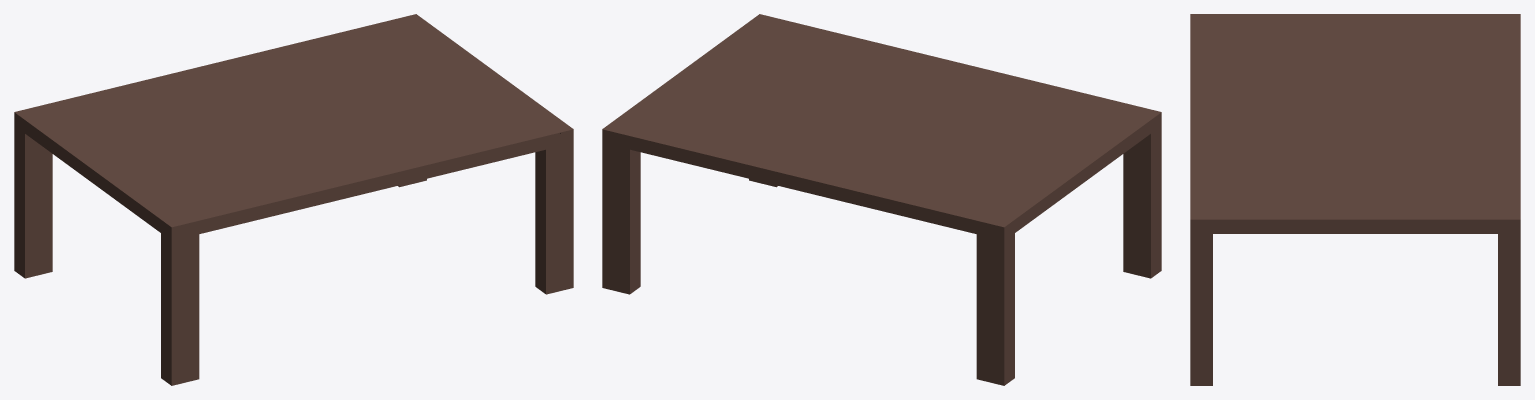
Rendered from table.fbx.
The picture shows the model from 3 angles, left to right: view 1: azimuth 30°, elevation 25°; view 2: azimuth 150°, elevation 25°; view 3: azimuth 270°, elevation 25°; orthographic projection. The views are drawn at different scales.
Visible parts, largest first — view 1: table; view 2: table; view 3: table.
Boxes of the visible parts, x1,y1,x2,y2 form: table: (14, 14, 573, 385); table: (602, 14, 1161, 385); table: (1190, 14, 1520, 385).
Bounding box in the file's own units: 869 × 328 × 590.
1 material, 1 textured.
